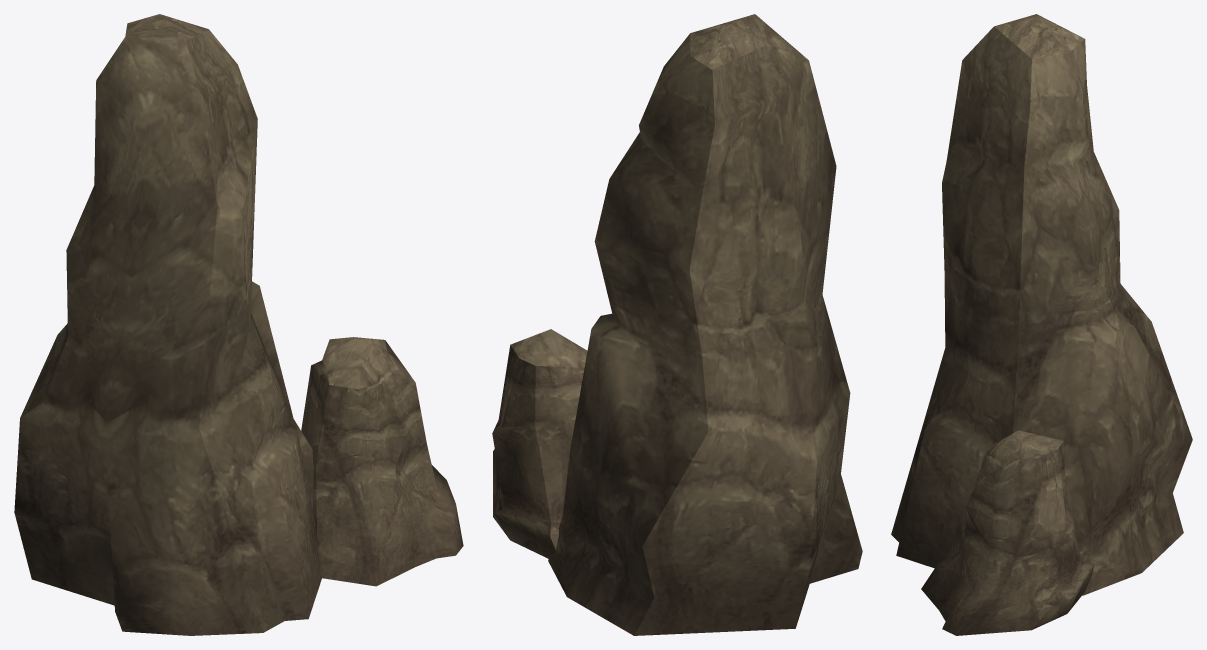
File: Stone01_shandi_001.FBX
3 views of the same model, side by side, from view 1: azimuth 30°, elevation 25°; view 2: azimuth 150°, elevation 25°; view 3: azimuth 270°, elevation 25° (orthographic). The views are drawn at different scales.
Visible parts, largest first — view 1: Stone01_shandi_001; view 2: Stone01_shandi_001; view 3: Stone01_shandi_001.
Boxes of the visible parts, bbox=[...] form: Stone01_shandi_001: bbox=[14, 14, 463, 635]; Stone01_shandi_001: bbox=[492, 14, 862, 635]; Stone01_shandi_001: bbox=[891, 14, 1192, 635].
Bounding box in the file's own units: 421 × 602 × 324.
